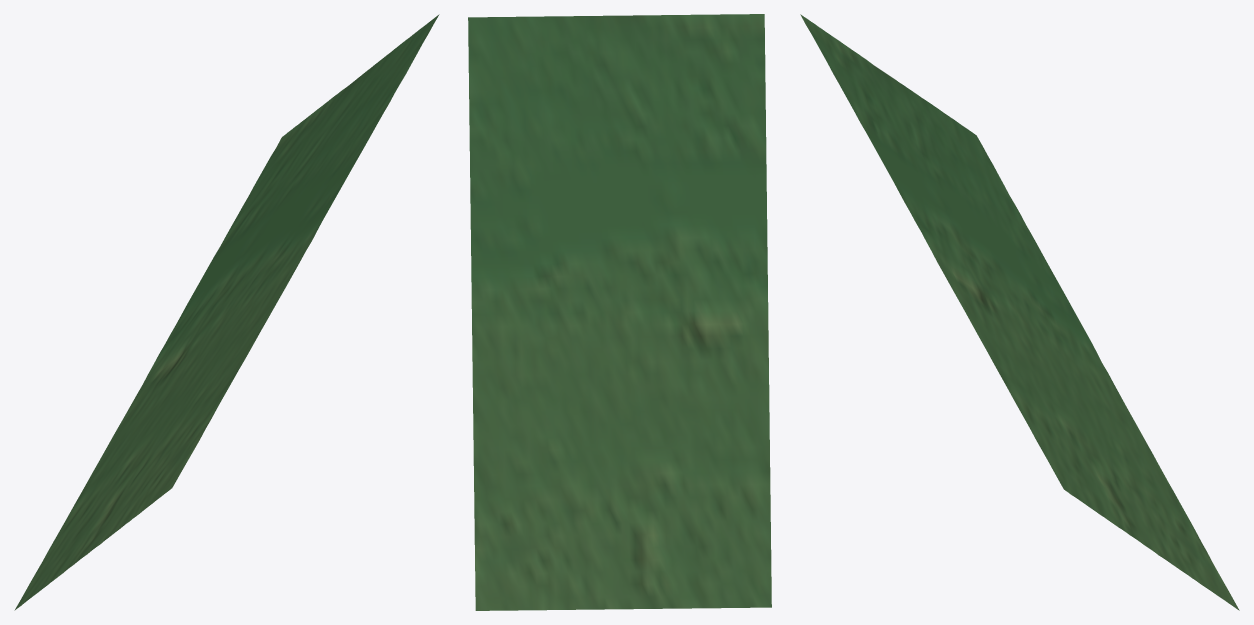
3 views of the same model, side by side, from view 1: azimuth 30°, elevation 25°; view 2: azimuth 150°, elevation 25°; view 3: azimuth 270°, elevation 25° (orthographic). The views are drawn at different scales.
Size of the model in its own units: 9906 by 13247 by 9701.
